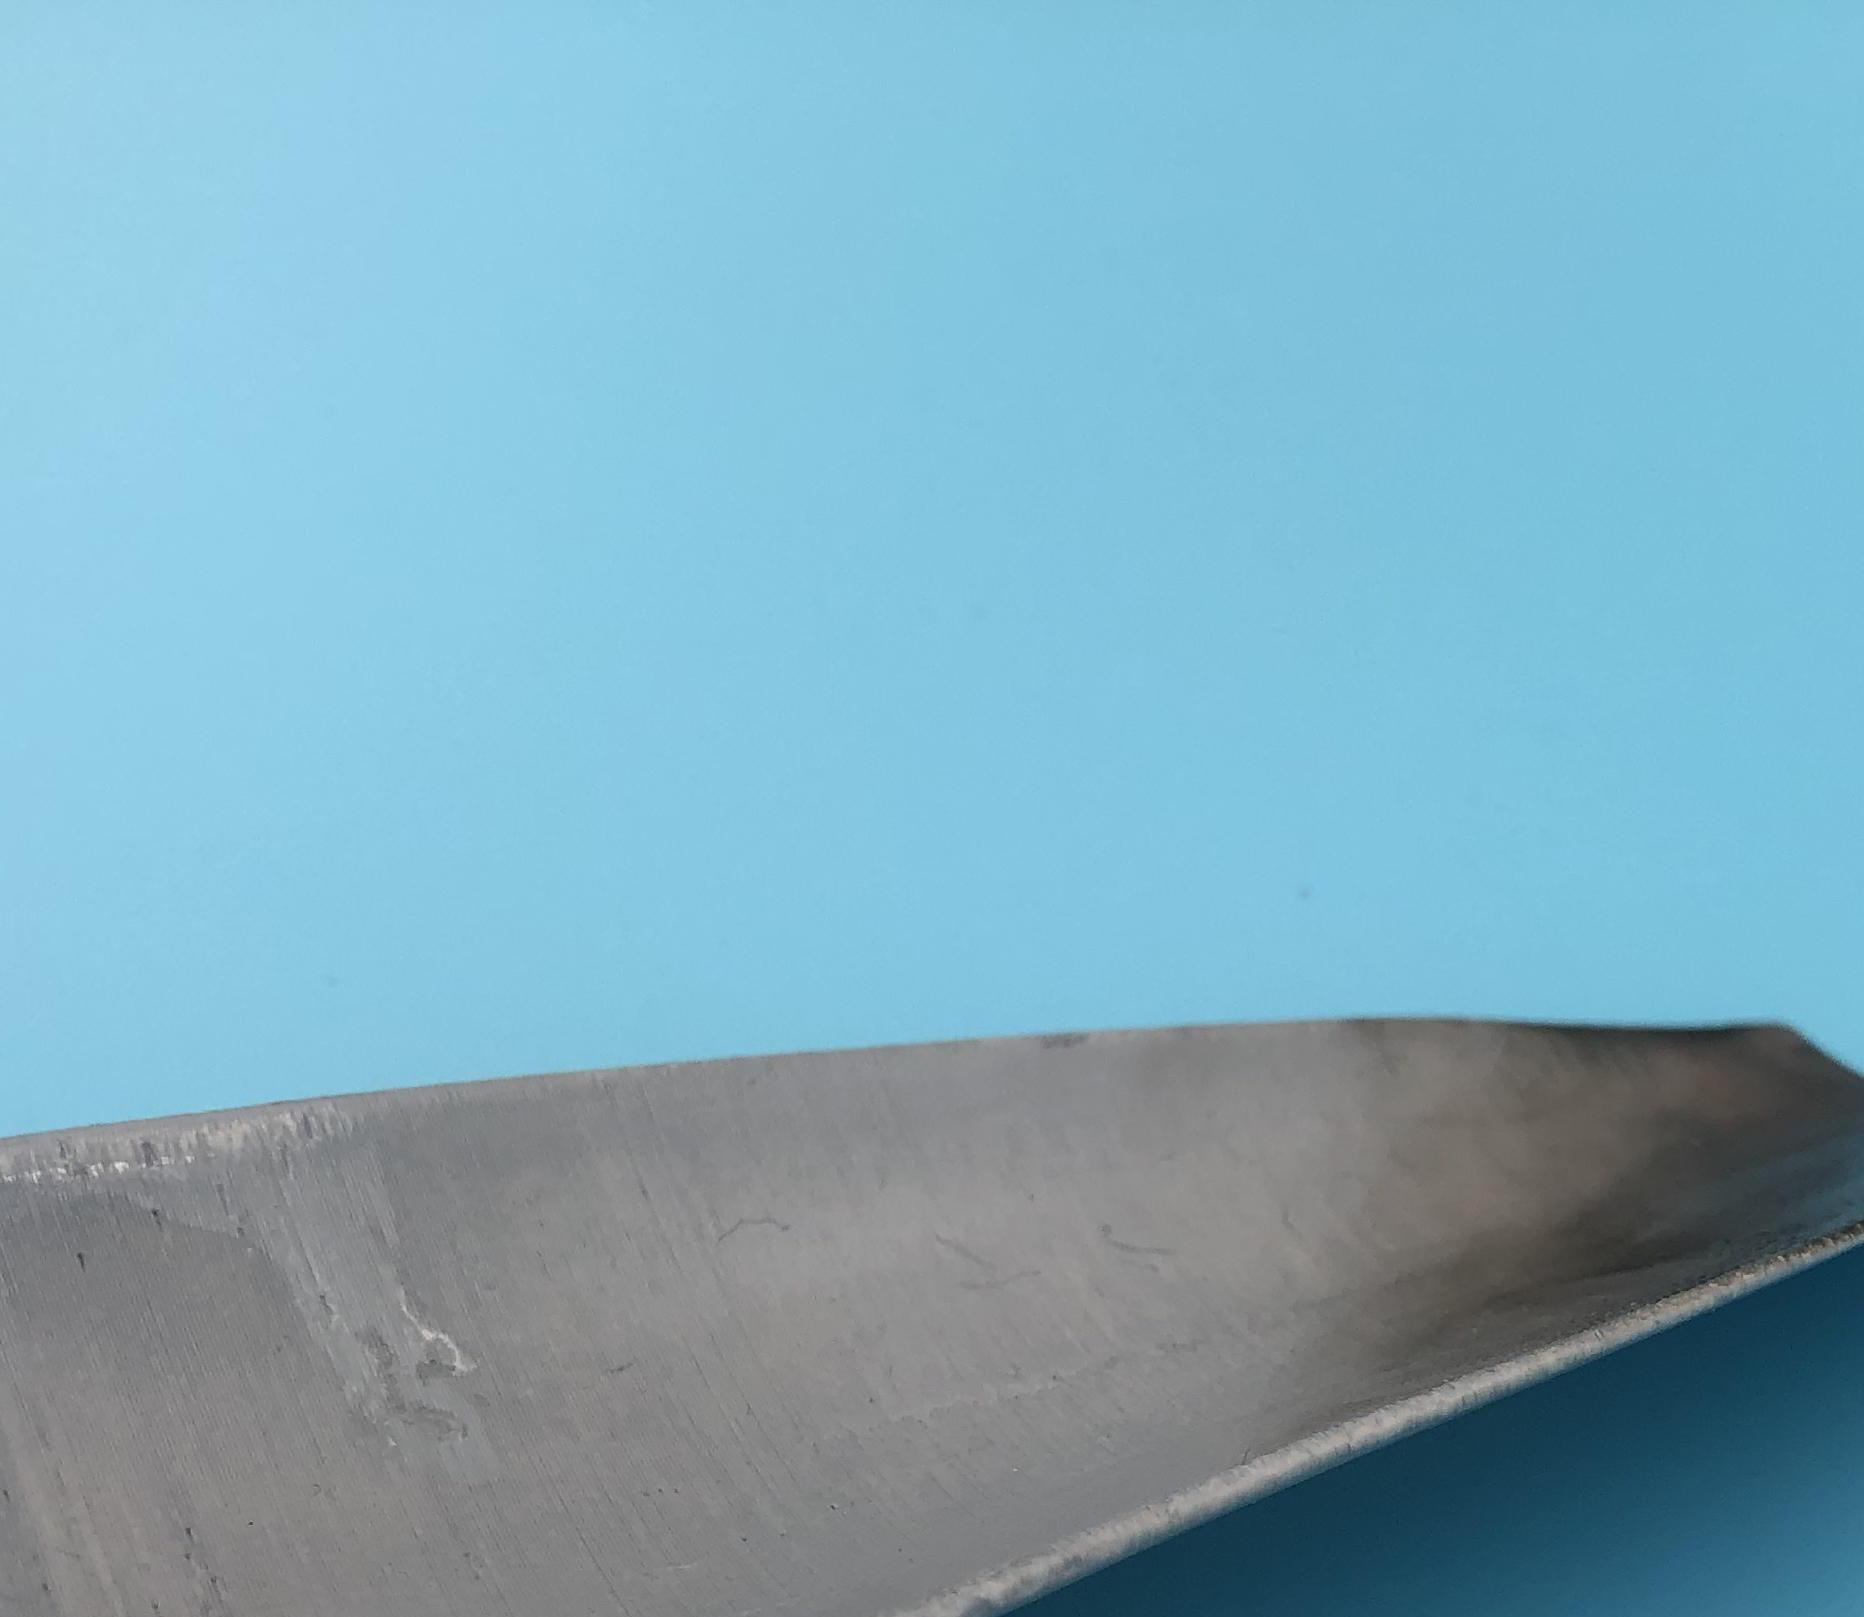ablation: (1469, 1030, 1840, 1267)
